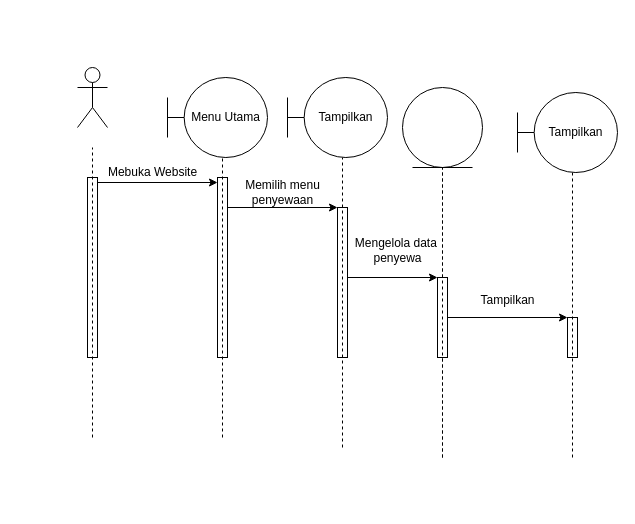
Image size: 635x524. Some labels were removed from this diagram. The box of each missing label's shape, as (x1, y1, x2, y2) in pixels:
Admin: (76, 66, 108, 128)
memproses data penyewa: (402, 86, 482, 168)
